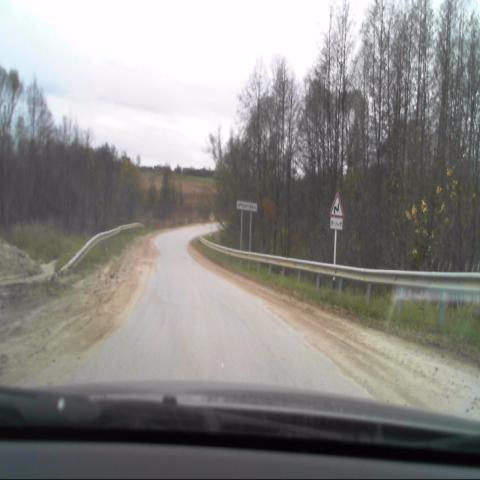1_12: (328, 192, 342, 216)
